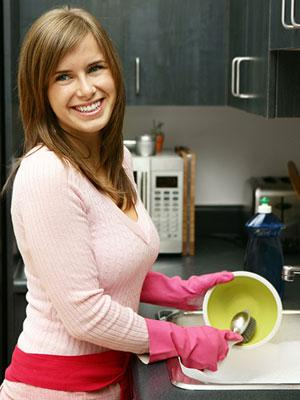person: (1, 10, 245, 399)
